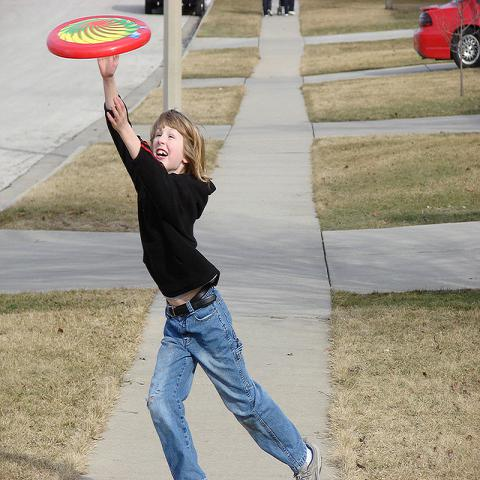car: (412, 1, 479, 74), (145, 0, 206, 16)
